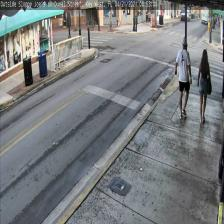person: (175, 37, 192, 117), (197, 48, 210, 123)
